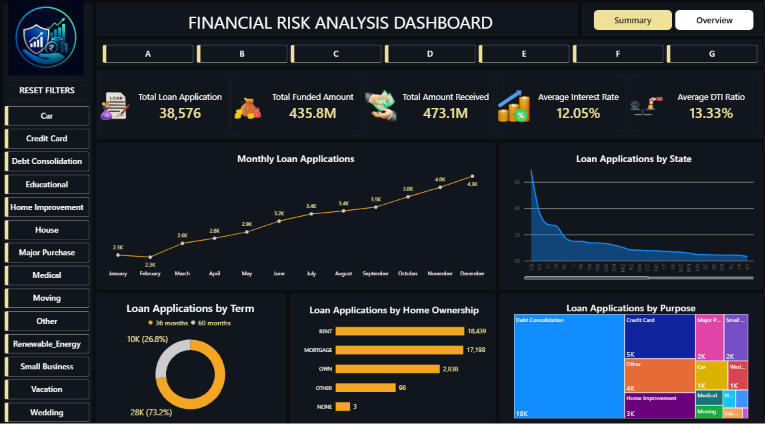

This screenshot's page, from the dashboard's own definition file:
{"tool":"powerbi","page":{"name":"Overview","canvas":[1920,1080],"ordinal":1},"visuals":[{"type":"cardVisual","fields":{"Data":["financial_loan.Total Loan Application","financial_loan.Total Funded Amount","financial_loan.Total Amount Received","financial_loan.Average Interest Rate","financial_loan.Average DTI Rate"]},"box":[250,187.8,1653.3,153.3],"z":0},{"type":"advancedSlicerVisual","fields":{"Values":["financial_loan.PURPOSE"]},"box":[14.3,264.3,211.4,802.9],"z":2000},{"type":"advancedSlicerVisual","fields":{"Values":["financial_loan.GRADE"]},"box":[260,113,1643,44],"z":3000},{"type":"actionButton","box":[14.3,200,211.4,50],"z":4000},{"type":"textbox","box":[250,24.3,1197.1,68.6],"z":5000},{"type":"pageNavigator","box":[1488.6,24.3,400,50],"z":6000},{"type":"lineChart","title":"Monthly Loan Applications","fields":{"Category":["financial_loan.ISSUE_DATE.Variation.Date Hierarchy.Month"],"Y":["financial_loan.Total Loan Application"]},"box":[250,365.7,985.7,348.6],"z":7000},{"type":"donutChart","title":"Loan Applications by Term","fields":{"Category":["financial_loan.TERM"],"Y":["financial_loan.Total Loan Application"]},"box":[250,738.6,458.6,328.6],"z":8000},{"type":"clusteredBarChart","title":"Loan Applications by Home Ownership","fields":{"Category":["financial_loan.HOME_OWNERSHIP"],"Y":["financial_loan.Total Loan Application"]},"box":[742.9,741.4,492.9,321.4],"z":9000},{"type":"treemap","title":"Loan Applications by Purpose","fields":{"Group":["financial_loan.PURPOSE"],"Values":["financial_loan.Total Loan Application"]},"box":[1271.4,738.6,617.1,324.3],"z":10000},{"type":"areaChart","title":"Loan Applications by State","fields":{"Category":["financial_loan.ADDRESS_STATE"],"Y":["financial_loan.Total Loan Application"]},"box":[1271.4,365.7,631.4,350],"z":11000},{"type":"image","box":[13.6,0,211.2,188.5],"z":11001}]}

Visuals, with their boxes in screenshot pixels (x1, y1, x2, y2), scaled from the page's 1920x1080 canvas onto the 765x424 screenshot:
cardVisual - financial_loan.Total Loan Application x financial_loan.Total Funded Amount: [100,74,758,134]
advancedSlicerVisual - financial_loan.PURPOSE: [6,104,90,419]
advancedSlicerVisual - financial_loan.GRADE: [104,44,758,62]
actionButton: [6,79,90,98]
textbox: [100,10,577,36]
pageNavigator: [593,10,752,29]
"Monthly Loan Applications" lineChart: [100,144,492,280]
"Loan Applications by Term" donutChart: [100,290,282,419]
"Loan Applications by Home Ownership" clusteredBarChart: [296,291,492,417]
"Loan Applications by Purpose" treemap: [507,290,752,417]
"Loan Applications by State" areaChart: [507,144,758,281]
image: [5,0,90,74]
